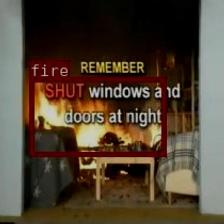fire: (29, 76, 166, 156)
